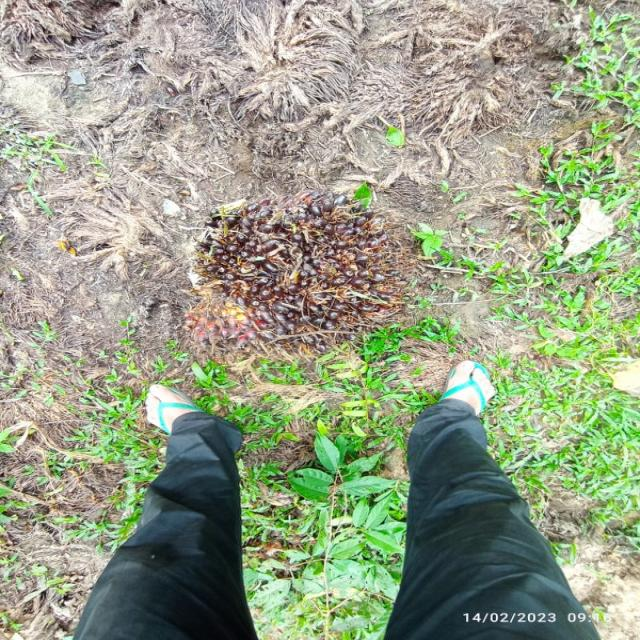fraksi 1: (183, 196, 414, 340)
